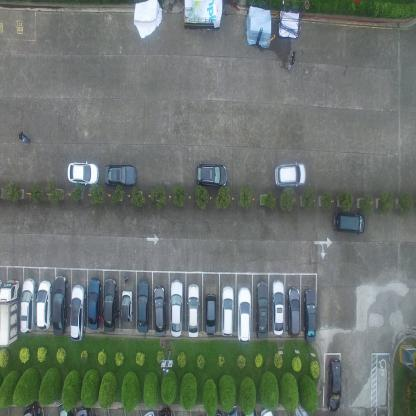car: (0, 278, 20, 349), (52, 274, 68, 337), (19, 276, 36, 335), (70, 282, 86, 342), (67, 157, 99, 187), (169, 278, 184, 338), (326, 356, 342, 412), (274, 161, 306, 188), (332, 210, 365, 236), (36, 279, 52, 331), (195, 161, 227, 187), (255, 281, 269, 340), (103, 276, 117, 334), (103, 163, 136, 186), (238, 287, 251, 345), (187, 282, 200, 340), (271, 278, 284, 336), (286, 285, 300, 338), (137, 278, 150, 334), (87, 278, 101, 330), (303, 288, 316, 344), (153, 284, 166, 337), (222, 286, 234, 339), (204, 292, 217, 338), (121, 289, 133, 323), (57, 397, 73, 415), (22, 400, 41, 415), (76, 403, 92, 415), (226, 404, 240, 415), (158, 405, 172, 415), (260, 408, 276, 416), (244, 405, 256, 415), (143, 408, 155, 416), (211, 408, 224, 415)
